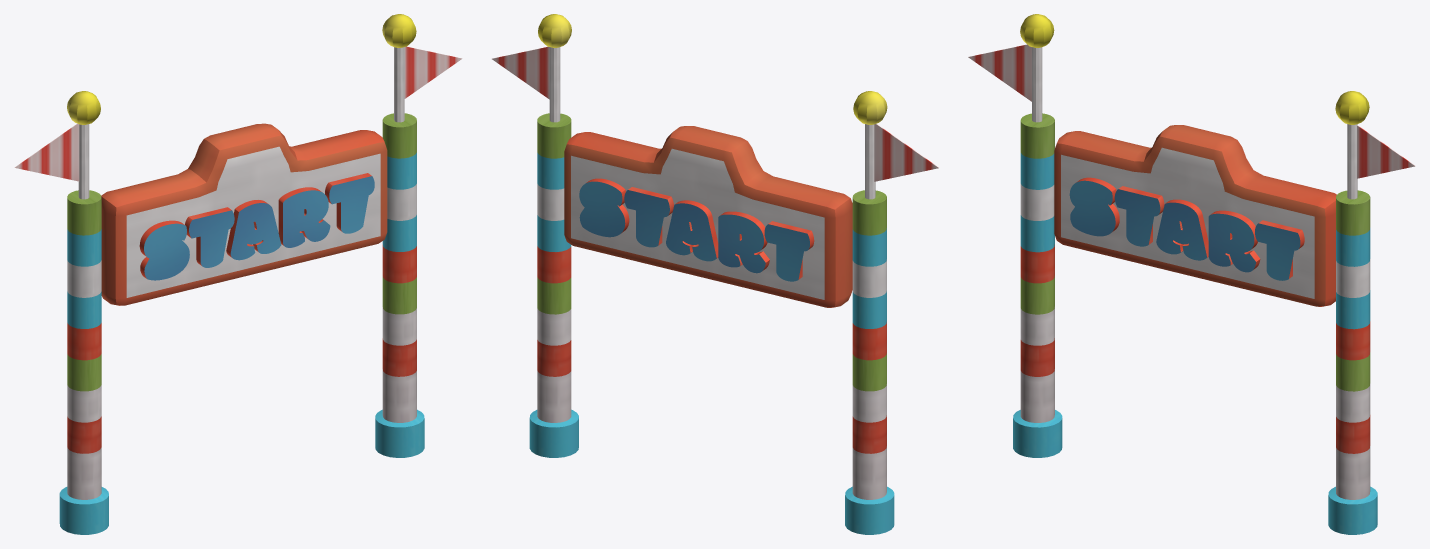
The model's file is Start.fbx.
3 renders of one model, left to right at view 1: azimuth 30°, elevation 25°; view 2: azimuth 150°, elevation 25°; view 3: azimuth 330°, elevation 25°, orthographic.
Parts seen in each view (by area): view 1: typeMesh4; view 2: typeMesh4; view 3: typeMesh4.
Part boxes in pixels (x1,y1,x2,y2): typeMesh4: (14,14,462,534); typeMesh4: (492,14,938,534); typeMesh4: (968,14,1415,534).
Size of the model in its own units: 30.04 by 27.73 by 3.51.
